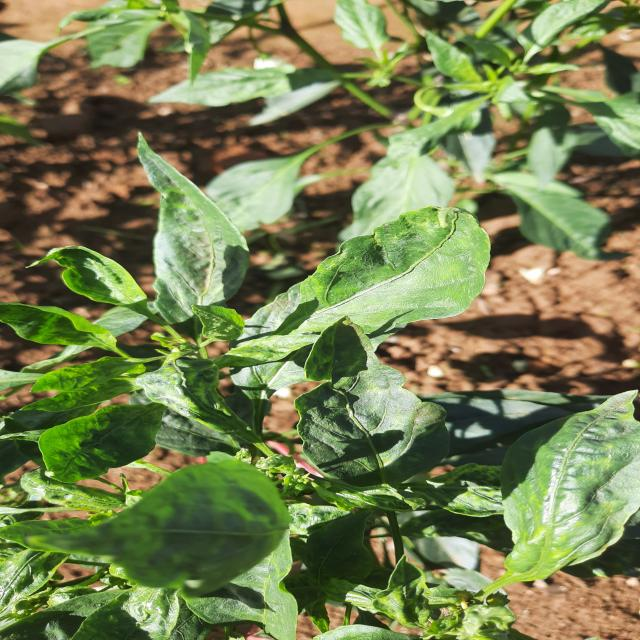thrips: (495, 384, 640, 587), (302, 194, 506, 332), (299, 372, 455, 489), (32, 242, 174, 314)
